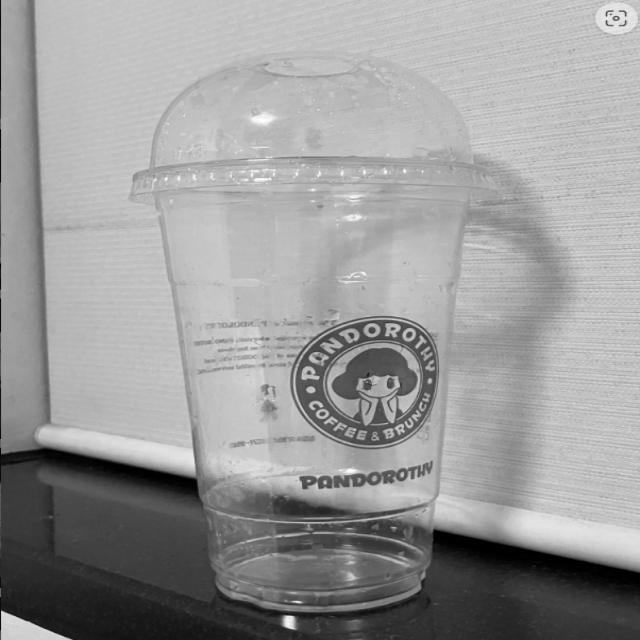bottle: (156, 185, 468, 612)
